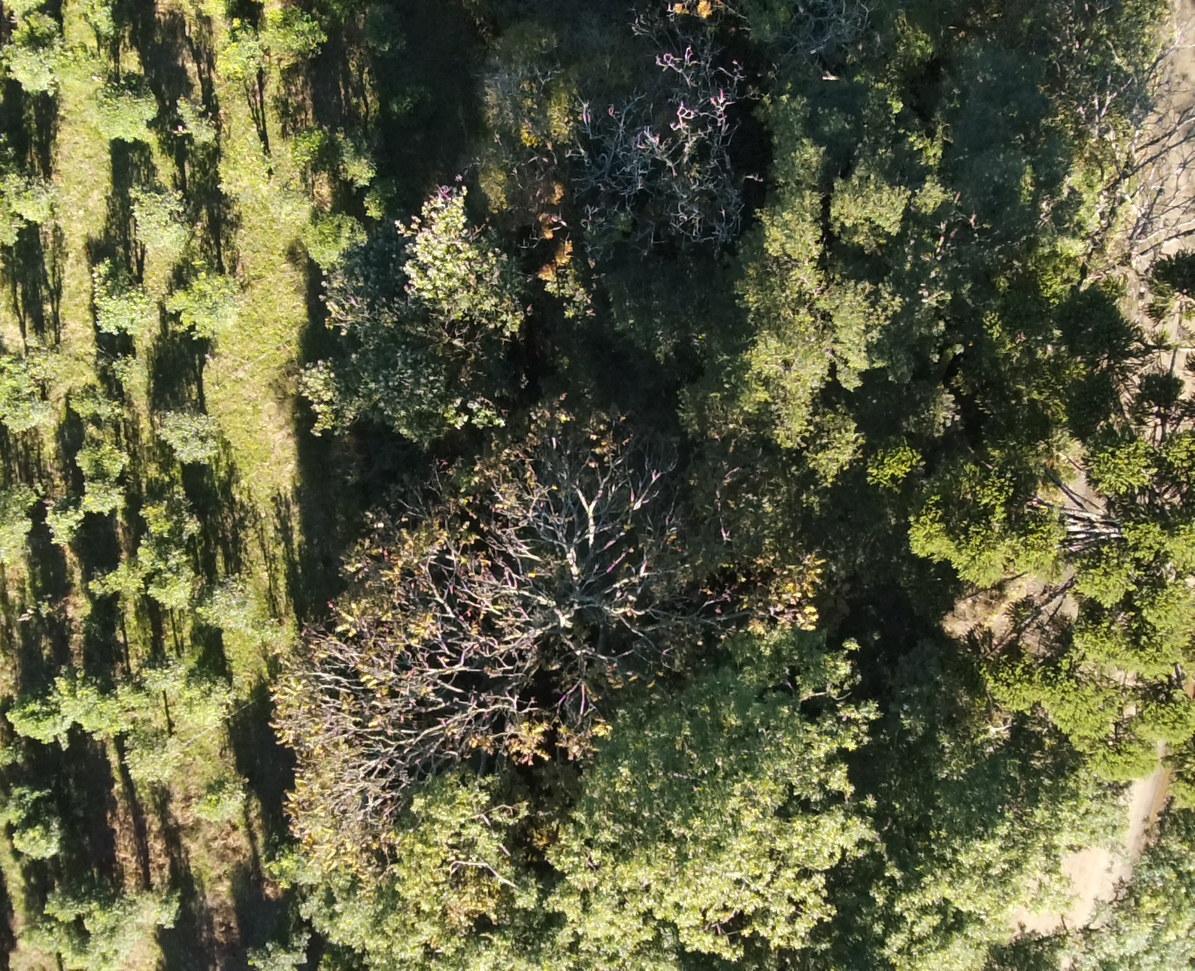erva: (161, 261, 247, 354), (75, 249, 154, 341), (0, 344, 74, 431), (50, 660, 120, 751), (291, 200, 371, 274), (84, 66, 159, 144), (152, 398, 226, 472), (119, 182, 196, 252), (7, 12, 66, 99), (120, 722, 186, 787), (199, 574, 267, 637), (0, 467, 42, 557), (7, 686, 66, 750), (170, 87, 226, 151), (89, 545, 146, 601), (75, 475, 132, 529), (12, 810, 69, 862), (69, 437, 131, 483), (179, 674, 236, 724), (0, 164, 60, 209), (16, 910, 71, 955), (40, 495, 82, 552), (155, 558, 204, 605), (54, 877, 101, 921), (140, 650, 184, 695), (0, 208, 34, 249)
